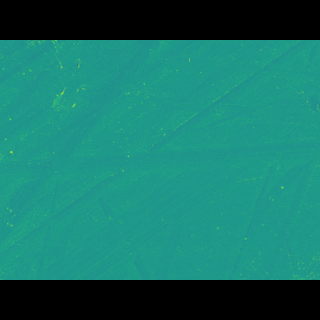Loch: (34, 100, 320, 250), (0, 144, 320, 181), (39, 104, 80, 129)
